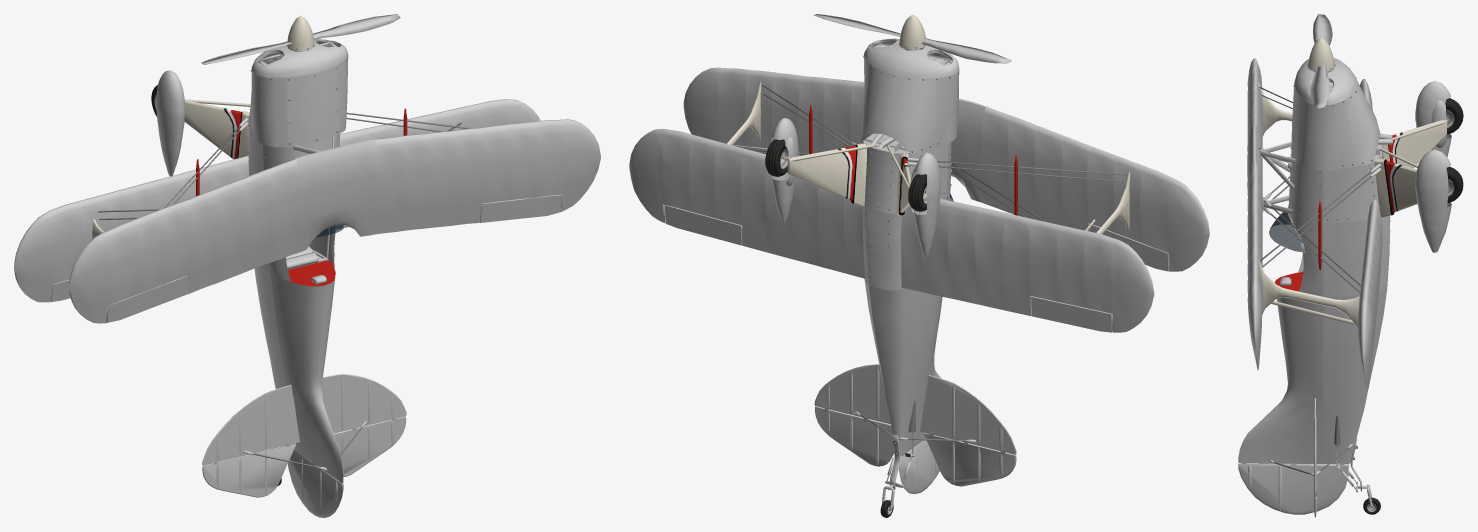
The model's file is Pitts Special.obj.
The picture shows the model from 3 angles, left to right: view 1: azimuth 30°, elevation 25°; view 2: azimuth 150°, elevation 25°; view 3: azimuth 270°, elevation 25°; orthographic projection. The views are drawn at different scales.
Parts seen in each view (by area): view 1: fuselage, Part294, Part295, Part14, propeller, Part07, Part10; view 2: fuselage, Part294, Part295, propeller, Part86, Part89, Part14, Part10, tyreR; view 3: fuselage, Part14, propeller, tyreL, tyreR.
Boxes of the visible parts, x1=… form: fuselage: x1=14, y1=38, x2=600, y2=483; Part294: x1=202, y1=443, x2=296, y2=497; Part295: x1=334, y1=416, x2=406, y2=476; Part14: x1=288, y1=449, x2=343, y2=517; propeller: x1=201, y1=14, x2=400, y2=64; Part07: x1=479, y1=194, x2=561, y2=222; Part10: x1=106, y1=275, x2=188, y2=322; fuselage: x1=629, y1=38, x2=1209, y2=510; Part294: x1=923, y1=433, x2=1016, y2=486; Part295: x1=815, y1=406, x2=894, y2=466; propeller: x1=814, y1=14, x2=1011, y2=63; Part86: x1=1031, y1=296, x2=1112, y2=332; Part89: x1=664, y1=205, x2=742, y2=245; Part14: x1=898, y1=435, x2=951, y2=494; Part10: x1=1089, y1=223, x2=1168, y2=271; tyreR: x1=765, y1=139, x2=789, y2=176; fuselage: x1=1238, y1=58, x2=1451, y2=508; Part14: x1=1238, y1=463, x2=1349, y2=514; propeller: x1=1307, y1=14, x2=1335, y2=108; tyreL: x1=1445, y1=98, x2=1463, y2=134; tyreR: x1=1446, y1=166, x2=1463, y2=202.
Bounding box in the file's own units: 7.18 × 6.31 × 2.7.
